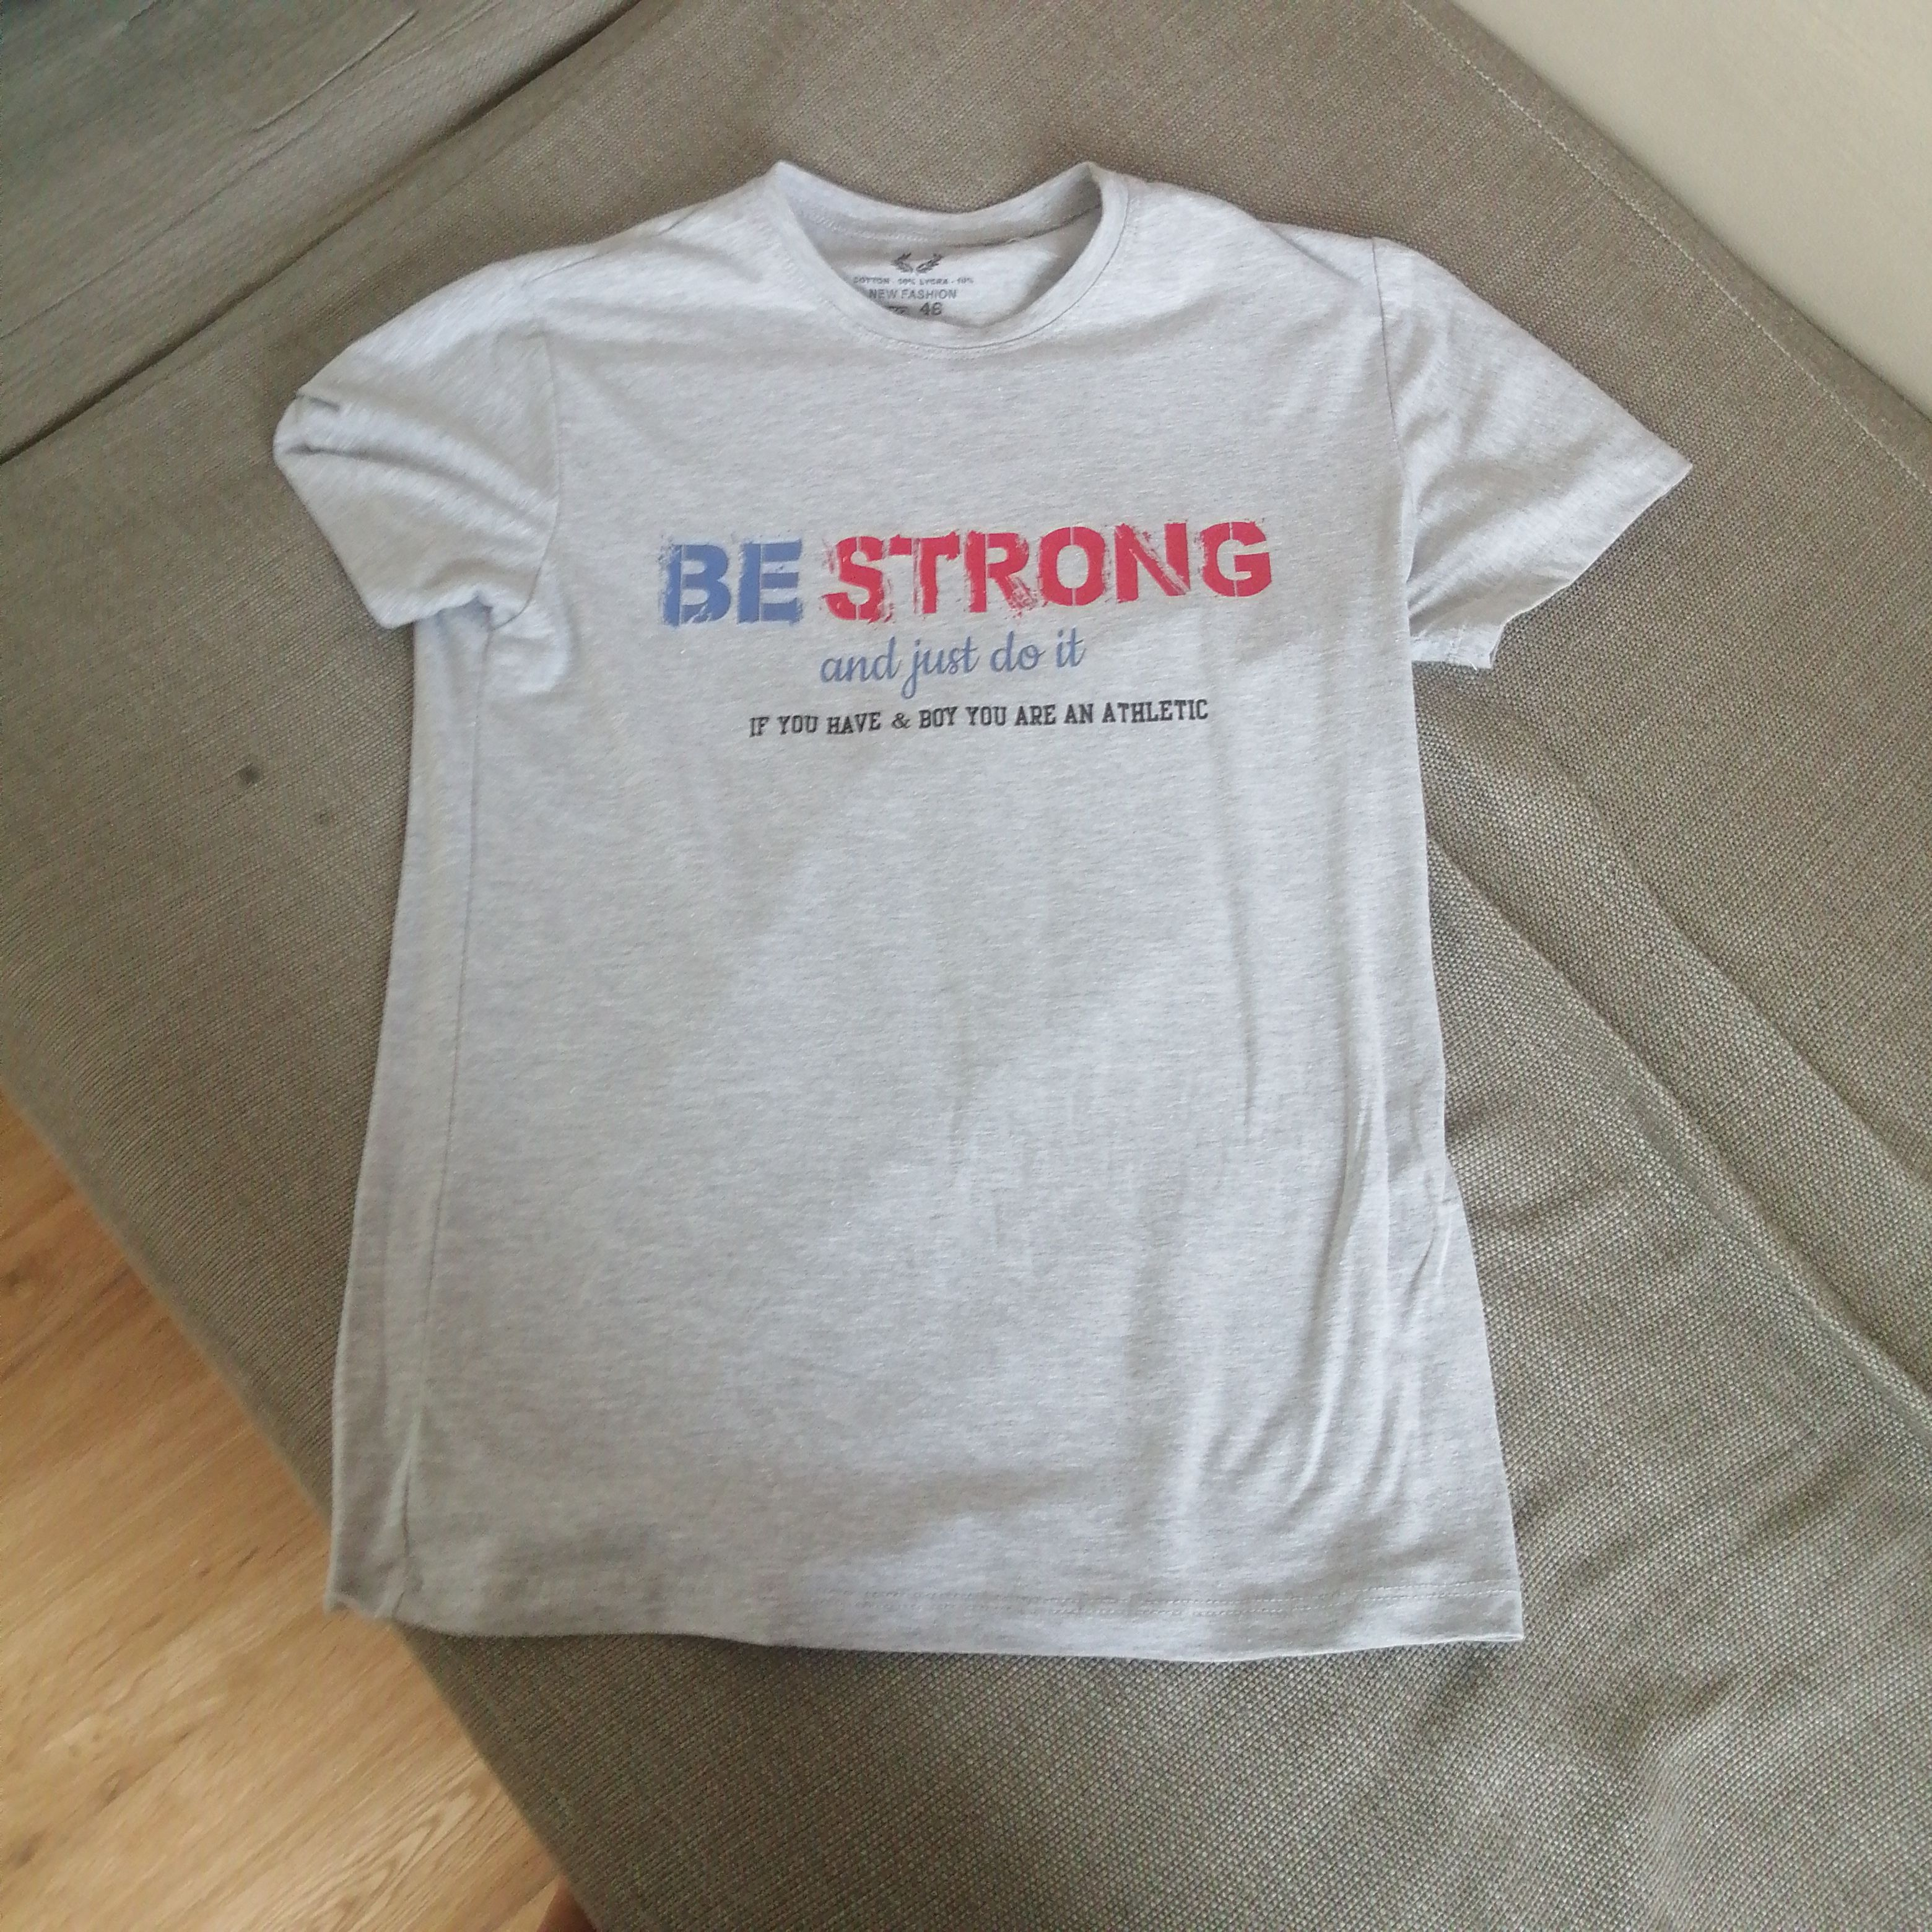clothes: (267, 166, 1661, 1688)
